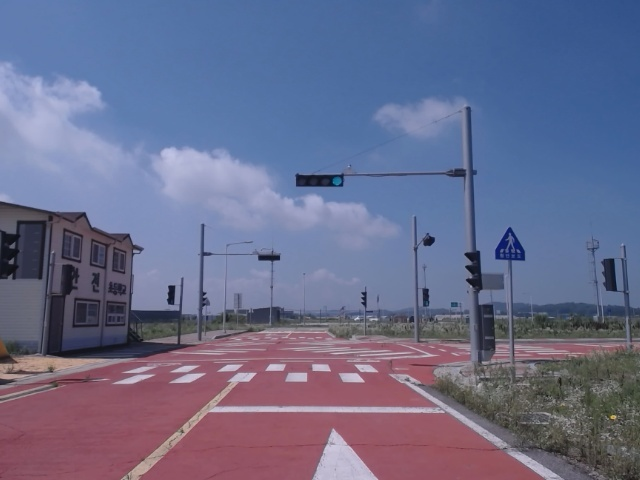straight_green_4: (296, 175, 344, 187)
